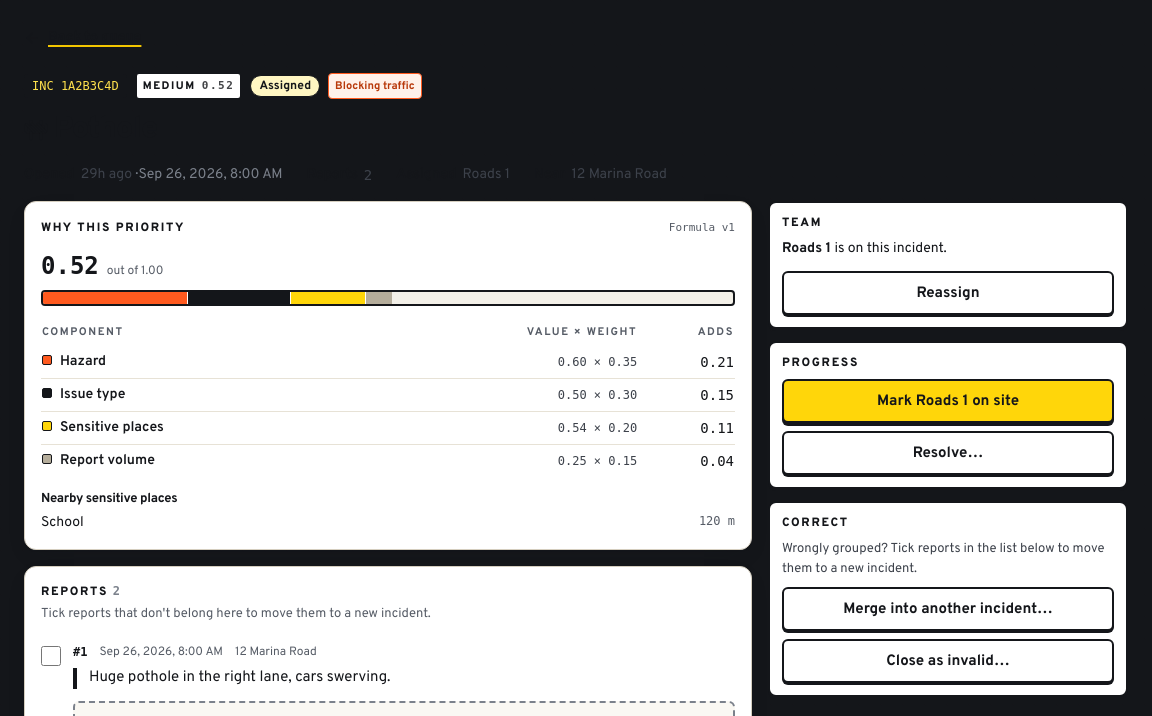
Incident page: progress and closing › marks on site
This screenshot has width=1152, height=716.
Step 1. Click the button "Mark Roads 1 on site" → (948, 401), box [782,379,1114,423]
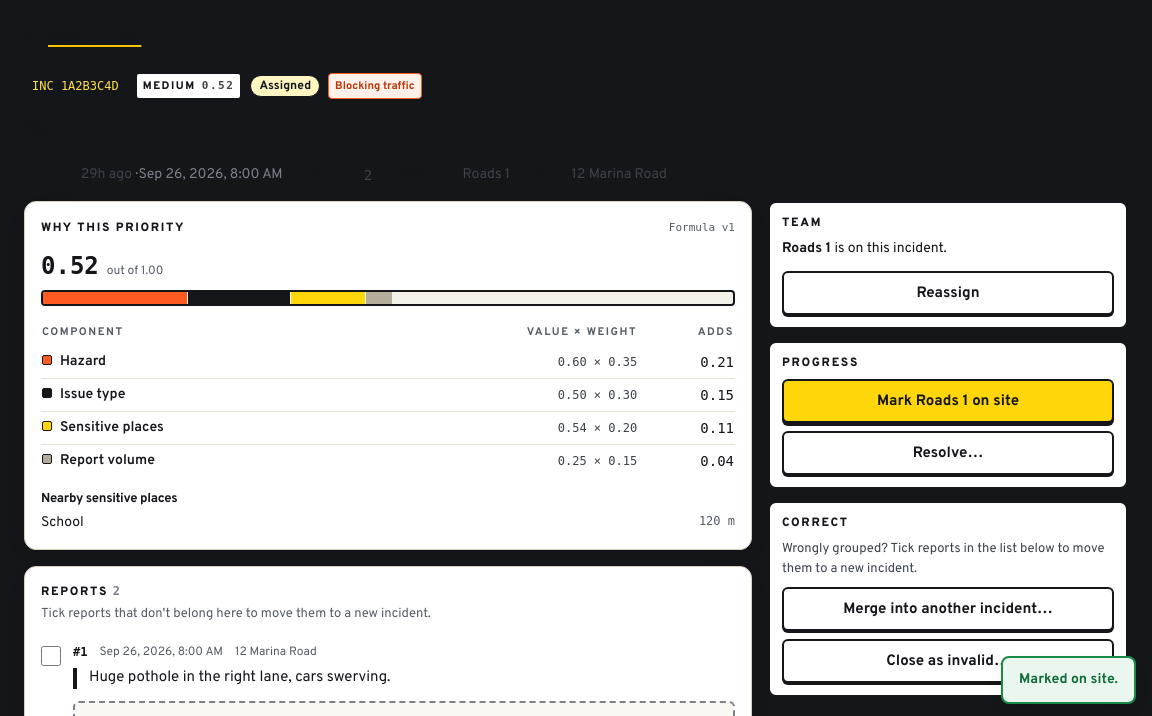
Expected: the text "Marked on site." is shown, [1001,656,1136,704]
